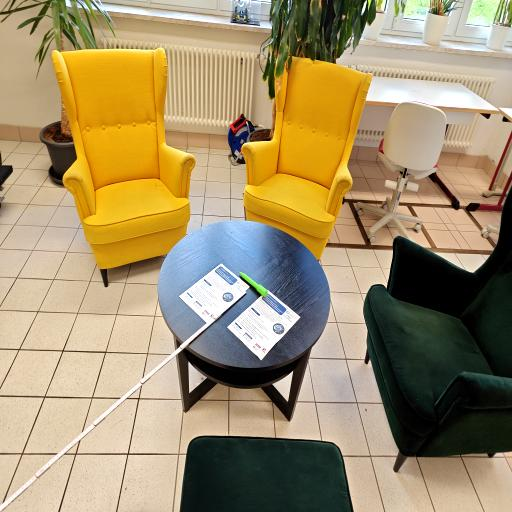Probe-Detection: (239, 272, 268, 297)
